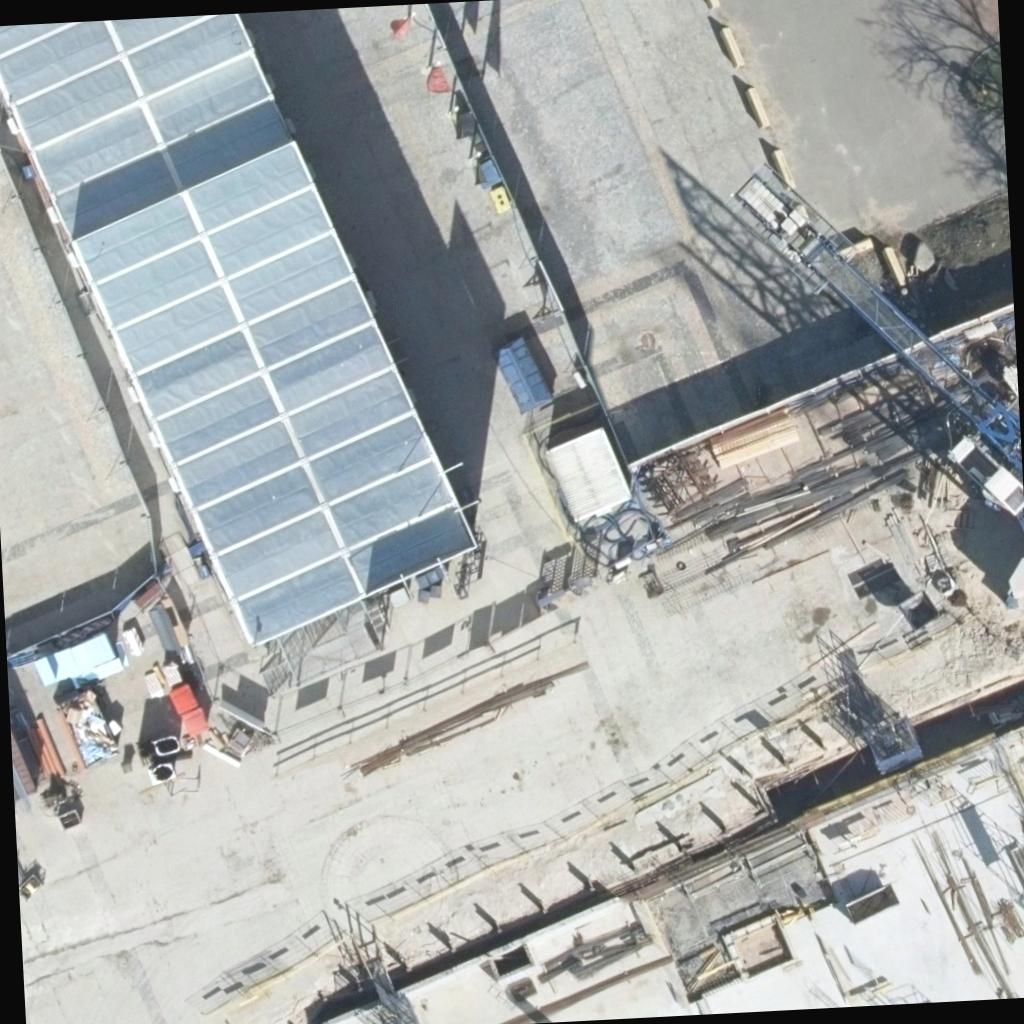zuraw_wiezowy: (725, 154, 1024, 530)
